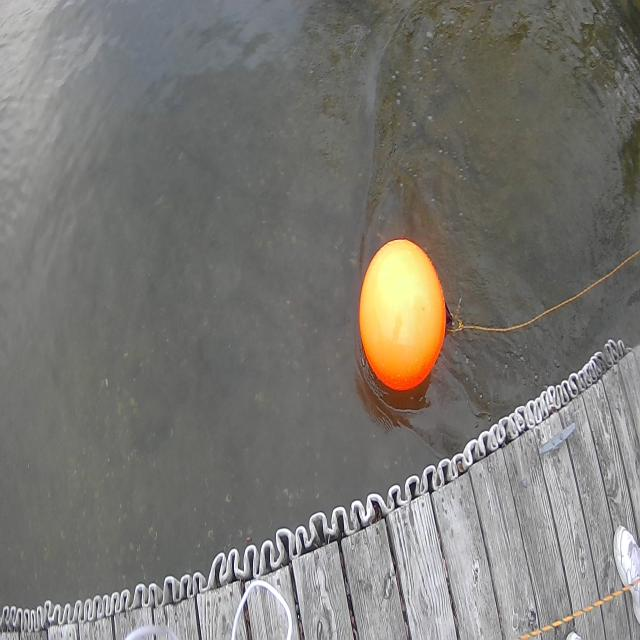Buoy: (350, 222, 455, 415)
